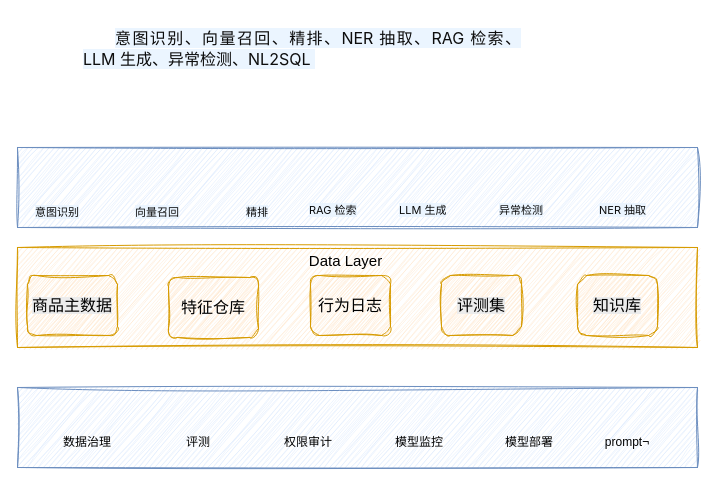
This 715x485 diagram has some shape labels left out. The shapes that lost their labels are listed below. From the top down, each one's box as (x1, y1, x2, y2) in pixels, then its label:
(16, 146, 698, 228): 模型层 （共享能力）
(16, 386, 698, 468): platform foundation （复用/抽象 内部基建）
